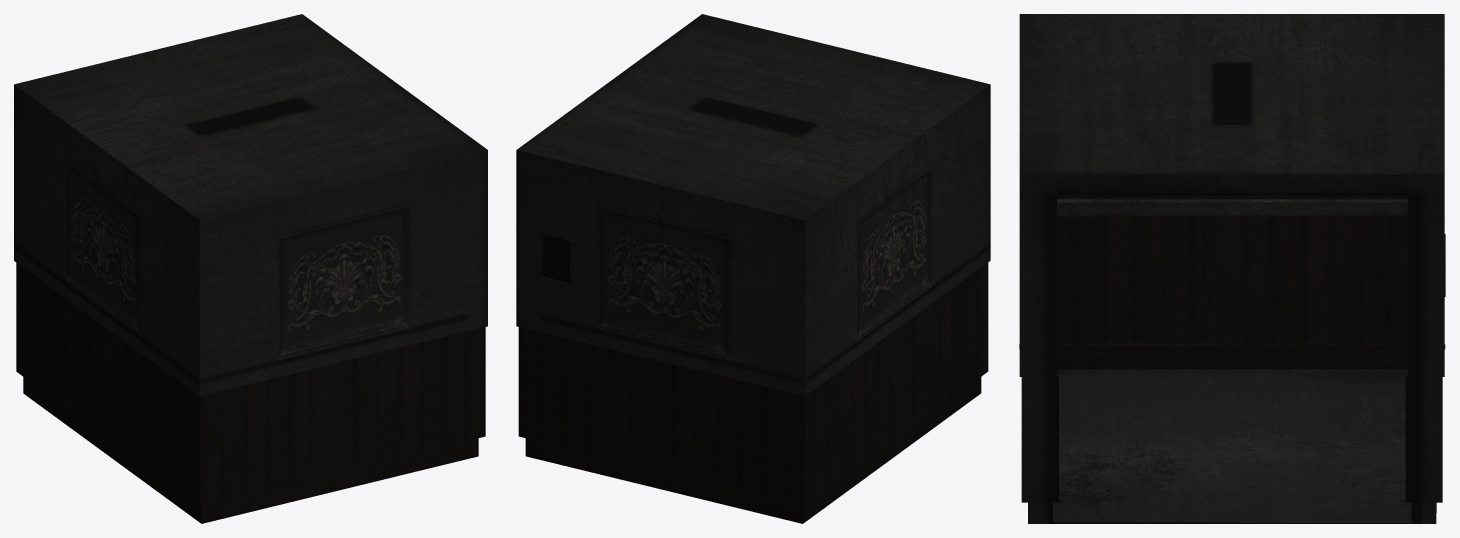
The model's file is Elevator.fbx.
3 views of the same model, side by side, from view 1: azimuth 30°, elevation 25°; view 2: azimuth 150°, elevation 25°; view 3: azimuth 270°, elevation 25° (orthographic). The views are drawn at different scales.
Visible parts, largest first — view 1: Cube_012; view 2: Cube_012; view 3: Cube_012.
Boxes of the visible parts, x1=… form: Cube_012: x1=14, y1=14, x2=487, y2=523; Cube_012: x1=516, y1=14, x2=990, y2=523; Cube_012: x1=1019, y1=14, x2=1445, y2=523.
Bounding box in the file's own units: 10.26 × 10.49 × 11.48.
